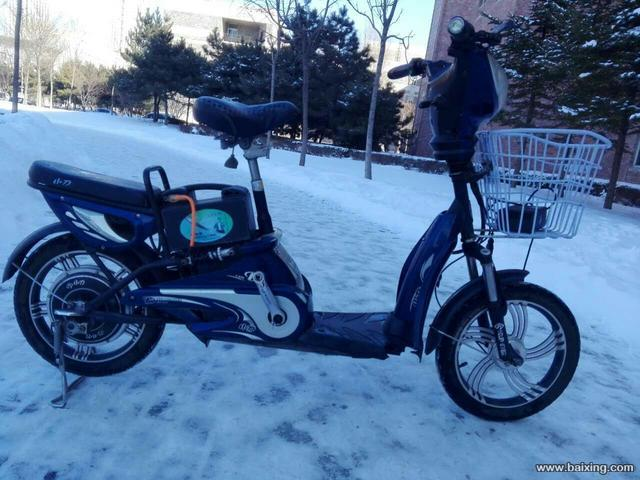电动车: (1, 13, 613, 424)
